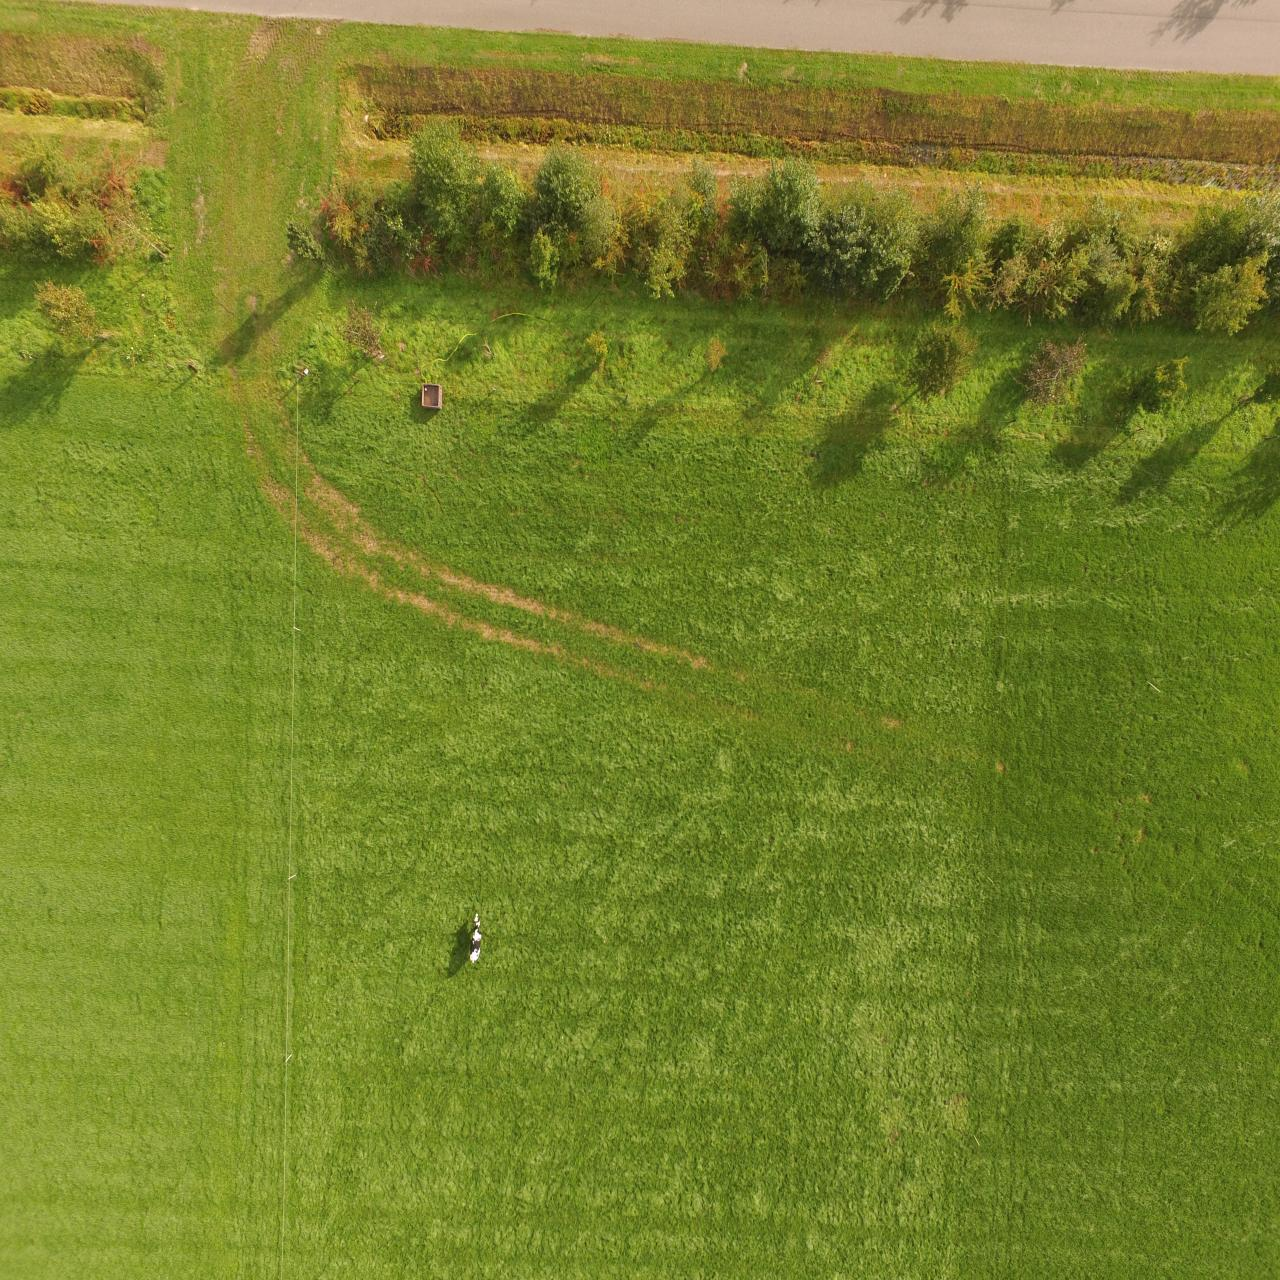cow: (468, 910, 481, 966)
